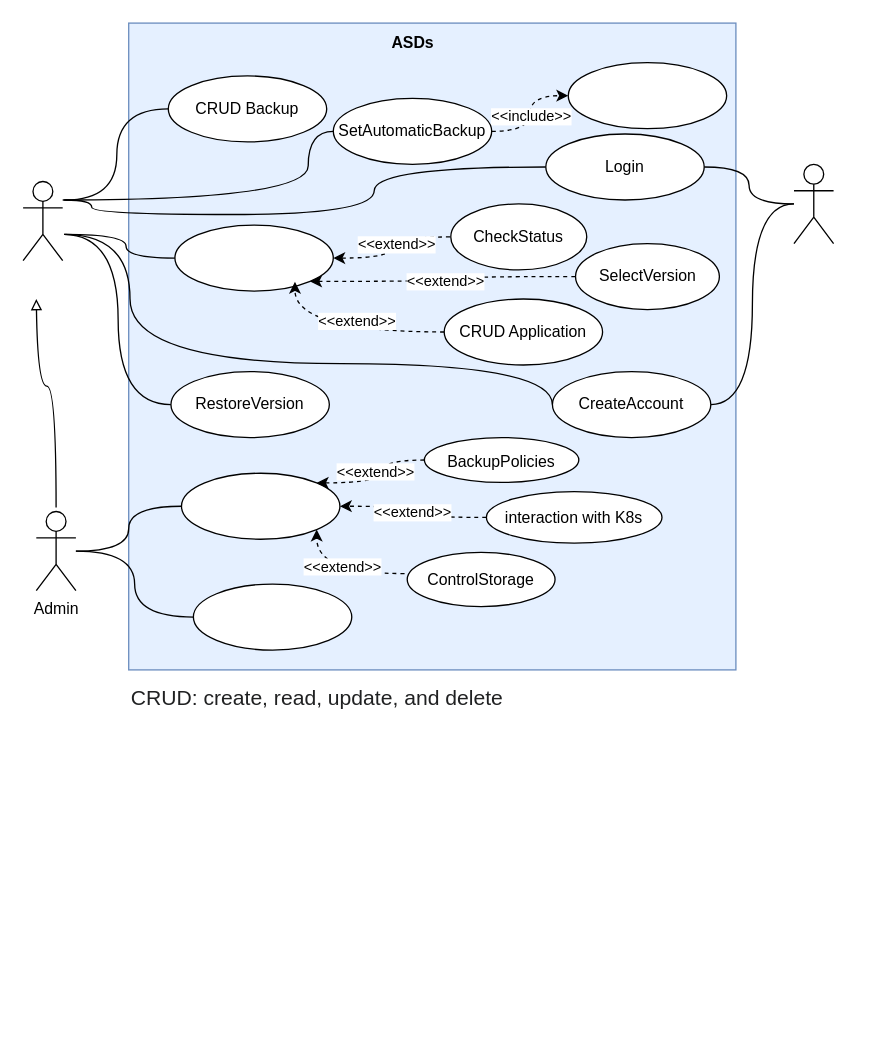
This 883x1064 diagram has some shape labels left out. The shapes that lost their labels are listed below. From the top down, each one's centre as x and y in pixels, then its label:
(x=647, y=95): SetTimeScheduler
(x=42, y=220): User
(x=813, y=203): Unauthorized user
(x=253, y=257): AppControl
(x=260, y=505): UpdateSettings
(x=272, y=616): SetUserRole
